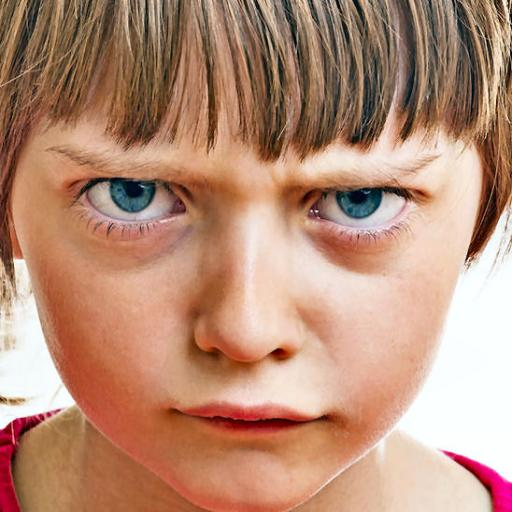Autism: (3, 5, 512, 492)
